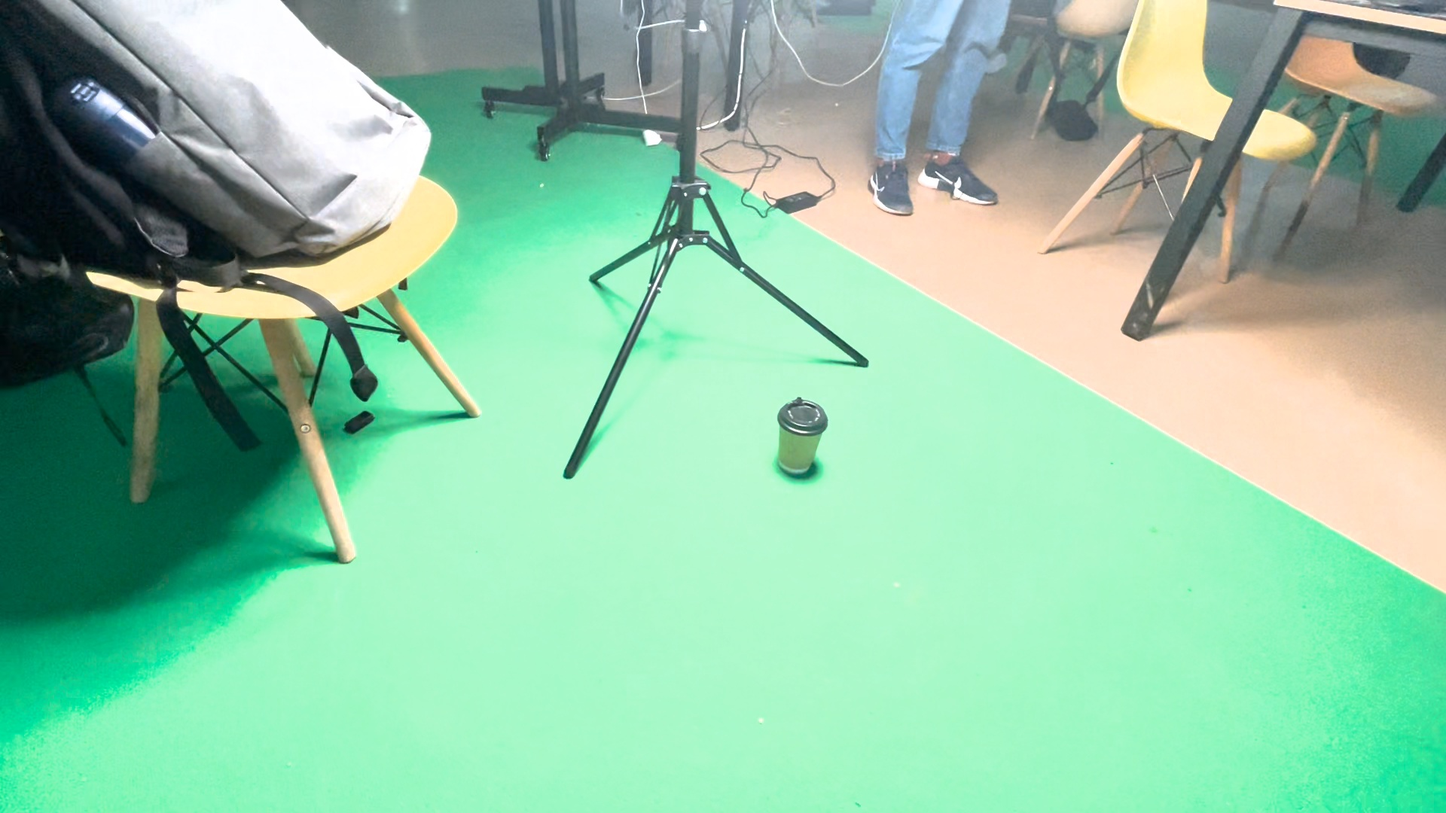cup: (688, 431, 809, 596)
